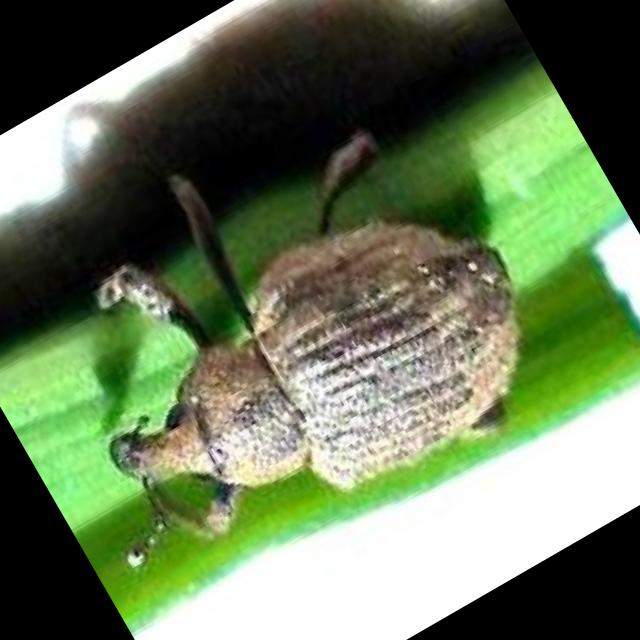rice-bug: (0, 56, 570, 603)
